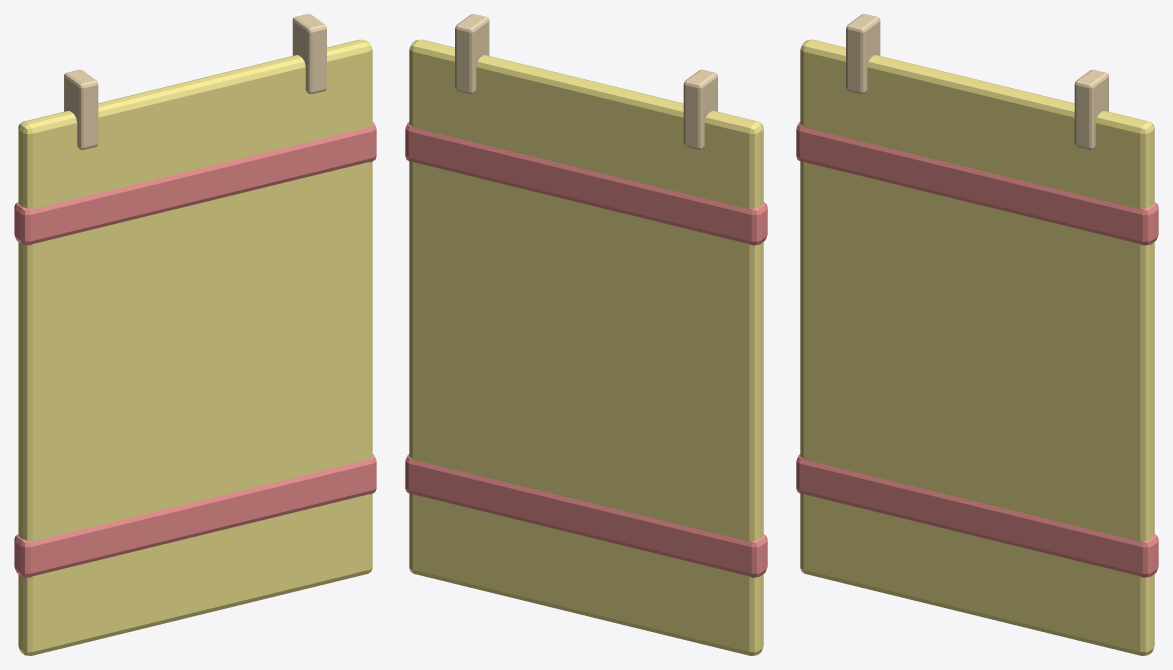
The model's file is towel.glb.
The picture shows the model from 3 angles, left to right: view 1: azimuth 30°, elevation 25°; view 2: azimuth 150°, elevation 25°; view 3: azimuth 330°, elevation 25°; orthographic projection.
Parts seen in each view (by area): view 1: towel; view 2: towel; view 3: towel.
Part boxes in pixels (left/top/right/bottom): towel: left=14, top=14, right=376, bottom=655; towel: left=405, top=14, right=767, bottom=655; towel: left=796, top=14, right=1158, bottom=655.
Size of the model in its own units: 0.56 by 0.85 by 0.05.
